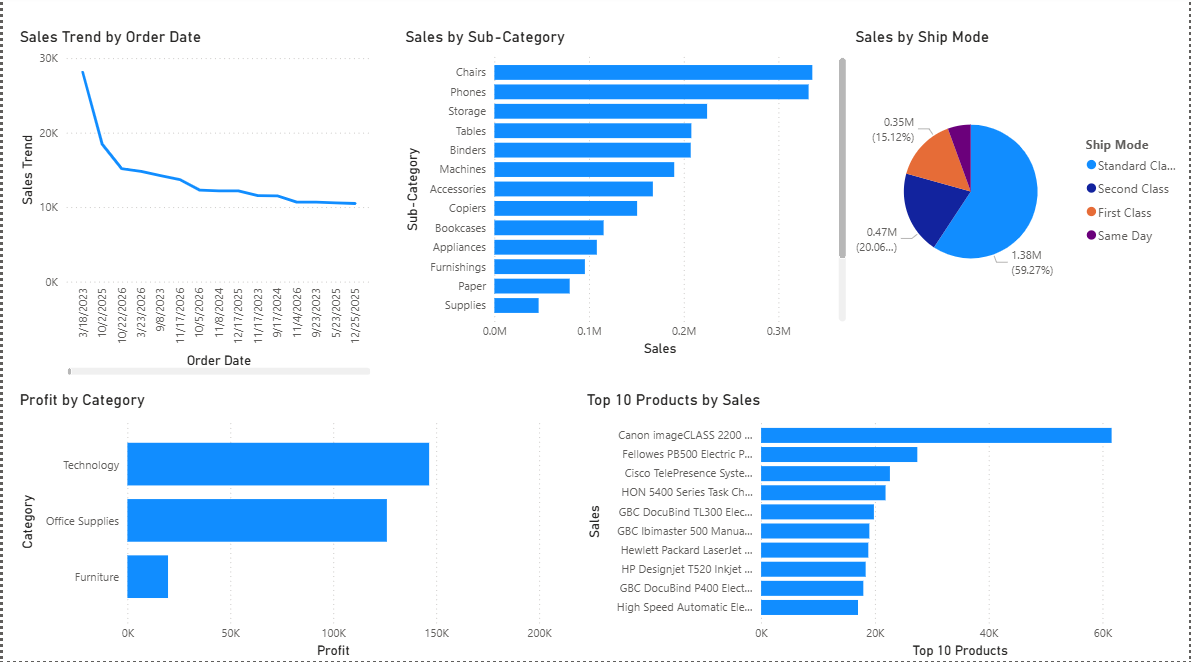

This screenshot's page, from the dashboard's own definition file:
{"tool":"powerbi","page":{"name":"Product & Trend Analysis","canvas":[1280,720],"ordinal":1},"visuals":[{"type":"lineChart","fields":{"Y":["Sum(samplesuperstore.Sales)"],"Category":["samplesuperstore.Order Date"]},"box":[13,35.6,388.6,380.5],"z":0},{"type":"clusteredBarChart","fields":{"Category":["samplesuperstore.Sub-Category"],"Y":["Sum(samplesuperstore.Sales)"]},"box":[429.1,35.6,485.8,359.5],"z":1000},{"type":"pieChart","fields":{"Category":["samplesuperstore.Ship Mode"],"Y":["Sum(samplesuperstore.Sales)"]},"box":[914.9,35.6,365.9,335.2],"z":2000},{"type":"clusteredBarChart","fields":{"Category":["samplesuperstore.Category"],"Y":["Sum(samplesuperstore.Profit)"]},"box":[13,427.5,584.5,293.1],"z":3000},{"type":"clusteredBarChart","fields":{"Category":["samplesuperstore.Product Name"],"Y":["Sum(samplesuperstore.Sales)"]},"box":[625,427.5,638,293.1],"z":4000}]}

Visuals, with their boxes in screenshot pixels (x1, y1, x2, y2), scaled from the page's 1280x720 canvas onto the 1191x662 screenshot:
lineChart - Sum(samplesuperstore.Sales) x samplesuperstore.Order Date: l=12, t=33, r=374, b=383
clusteredBarChart - samplesuperstore.Sub-Category x Sum(samplesuperstore.Sales): l=399, t=33, r=851, b=363
pieChart - samplesuperstore.Ship Mode x Sum(samplesuperstore.Sales): l=851, t=33, r=1190, b=341
clusteredBarChart - samplesuperstore.Category x Sum(samplesuperstore.Profit): l=12, t=393, r=556, b=661
clusteredBarChart - samplesuperstore.Product Name x Sum(samplesuperstore.Sales): l=582, t=393, r=1175, b=661
